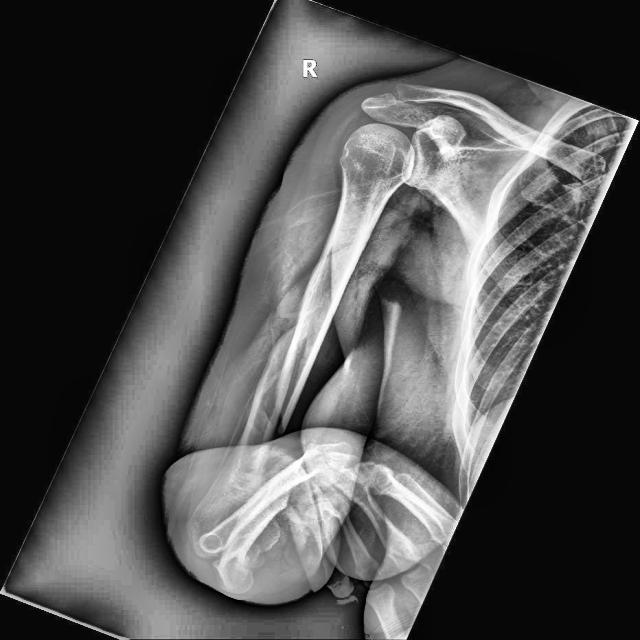messed_up_angle: (242, 328, 320, 436)
